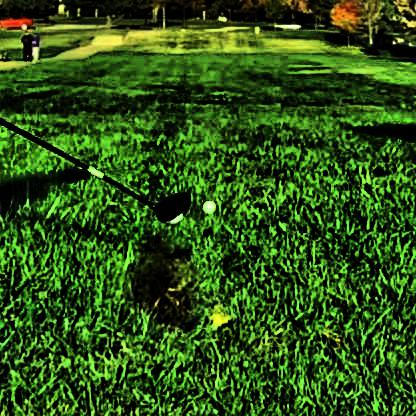golfball: (199, 196, 214, 211)
